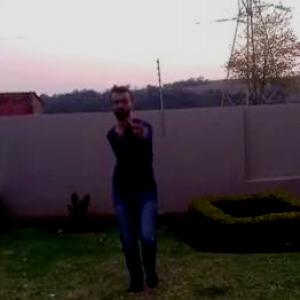takeoff-hand: (122, 108, 152, 148)
